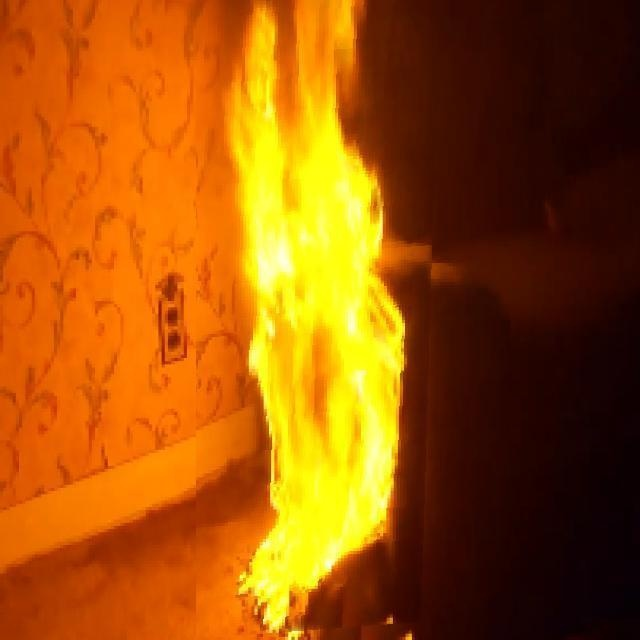fire: (203, 1, 413, 584)
